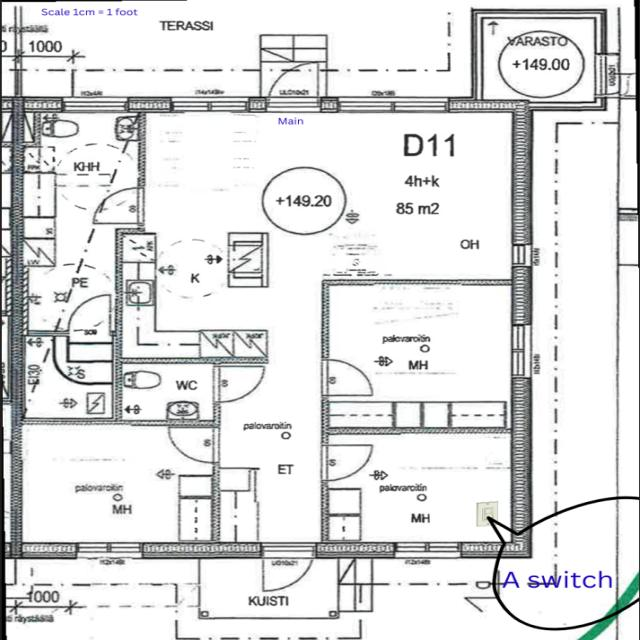main: (251, 56, 331, 120)
switch: (473, 498, 500, 529)
wall: (507, 375, 535, 562), (506, 92, 539, 249), (138, 538, 269, 563), (441, 92, 537, 117), (506, 262, 539, 332), (310, 538, 399, 562), (455, 538, 536, 563), (10, 538, 81, 562), (123, 93, 178, 117)
